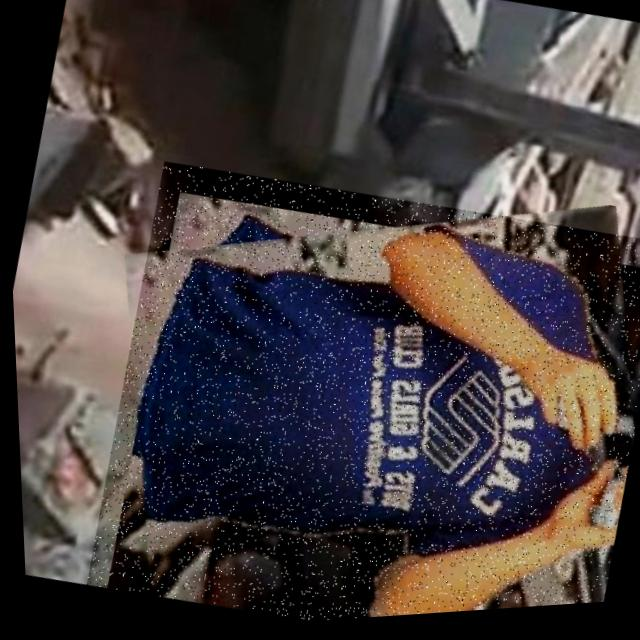Person in Rubble: (65, 137, 640, 637)
